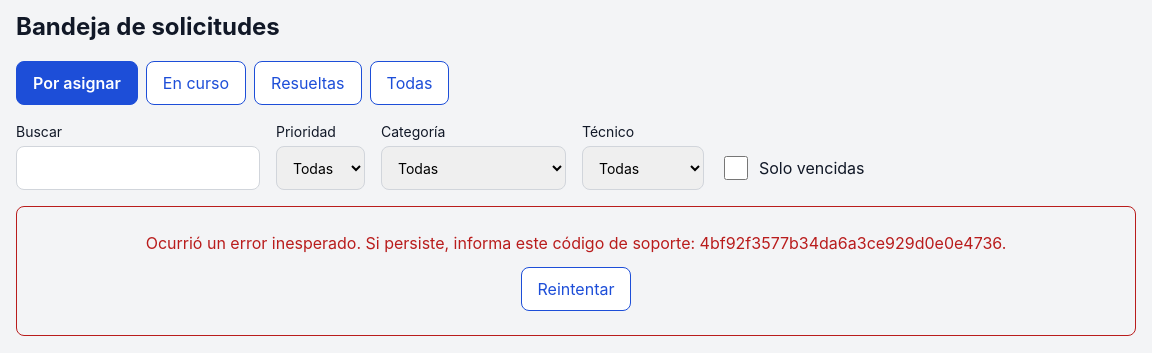
Test case: BandejaSupervisorPage › muestra el error de la consulta y permite reintentar
Check: the message shows "Ocurrió un error inesperado", box [146,233,1006,253]
What coordinates should you click on to do the following:
click the button "Reintentar"
I would click on:
 (576, 289)
Its box is [520,267,631,311].
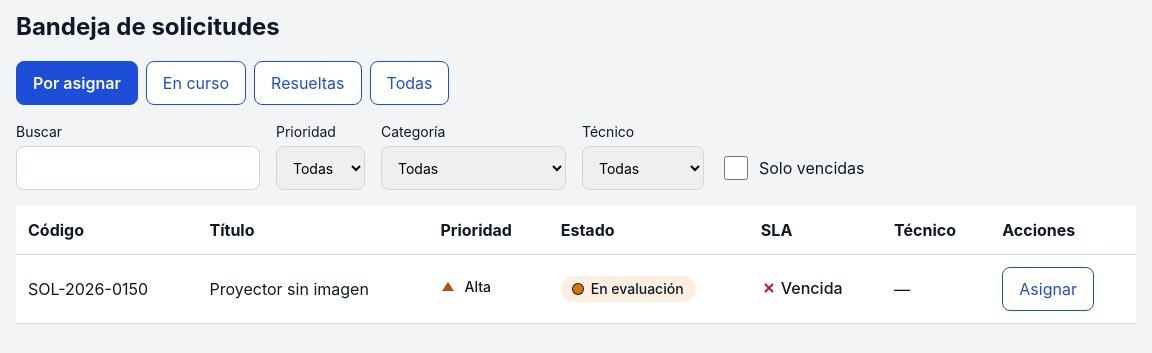
Check: the text "SOL-2026-0150" is shown, box [16,255,198,324]
